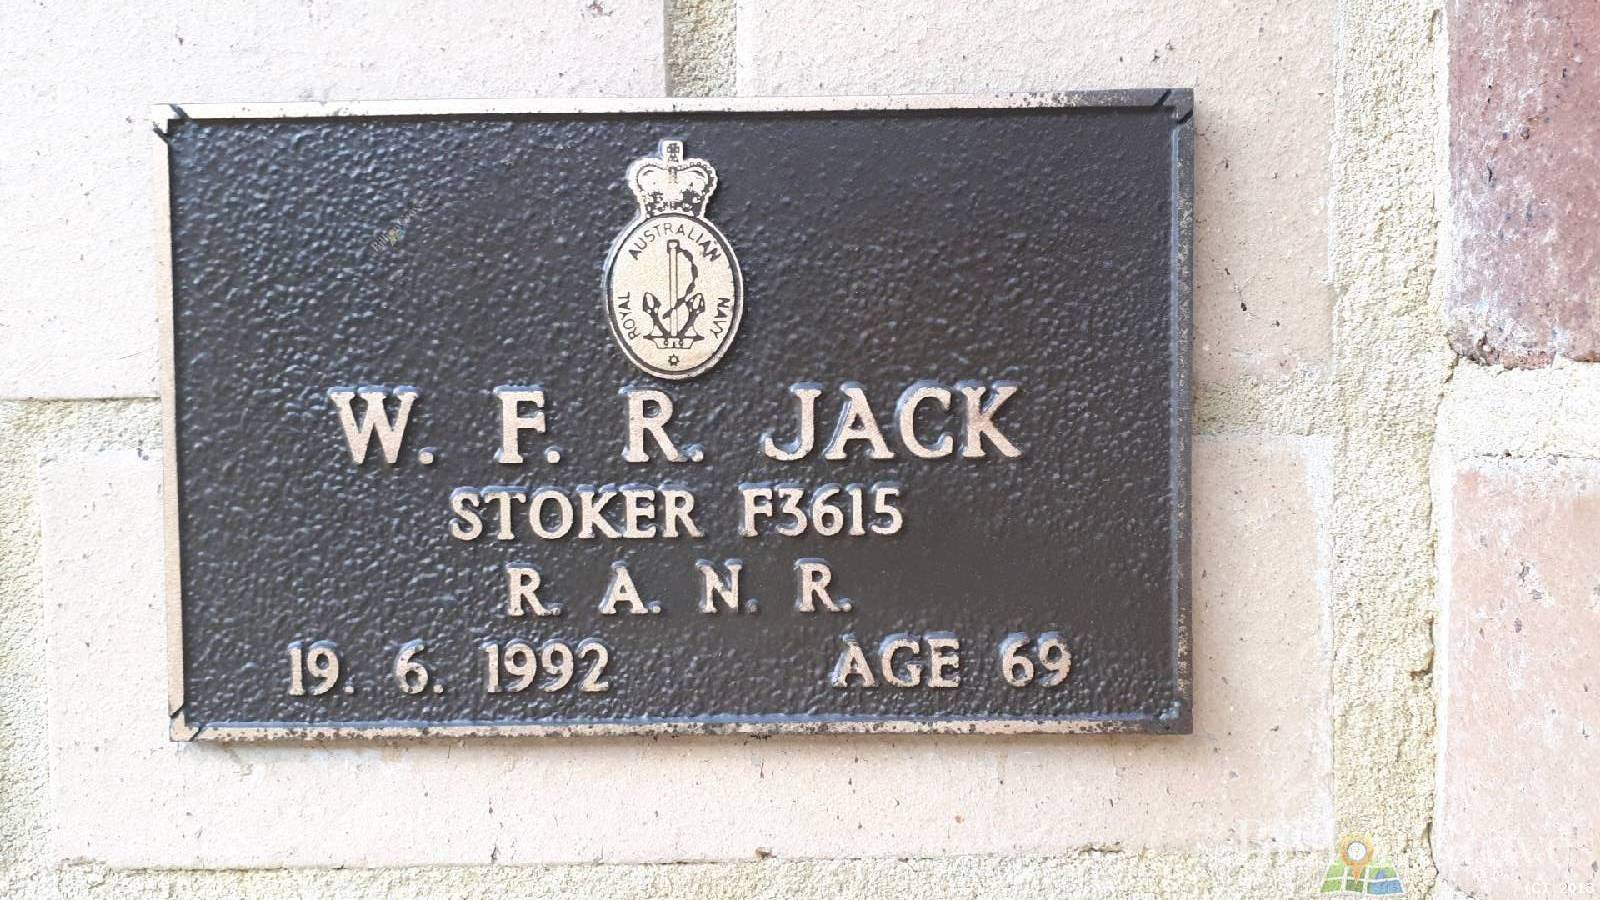plaque: (137, 86, 1200, 736)
